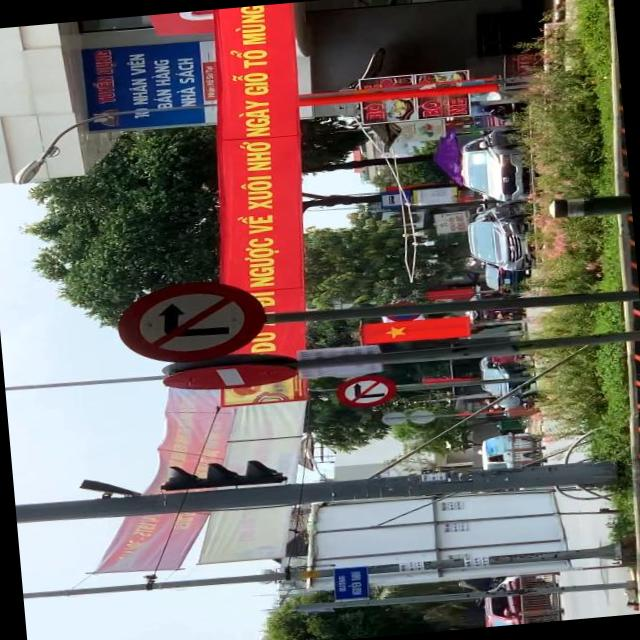P-123b: (112, 276, 264, 366), (336, 370, 398, 410)
